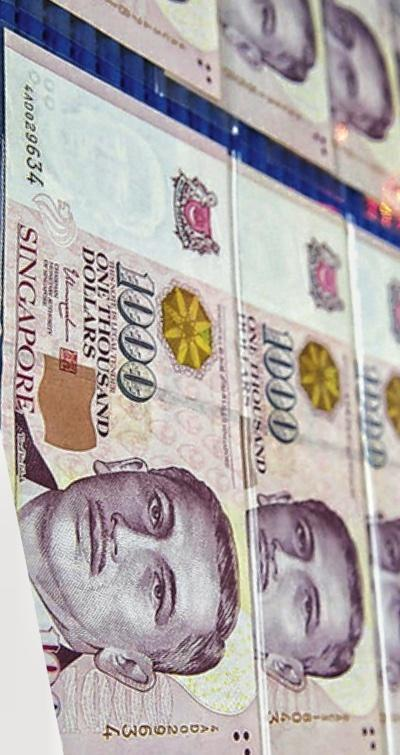1000SingaporeDollar: (0, 82, 254, 755)
